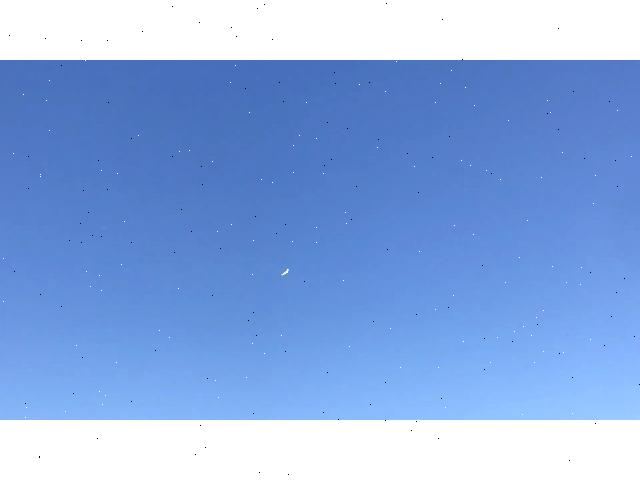Anti-Drone: (279, 262, 297, 284)
